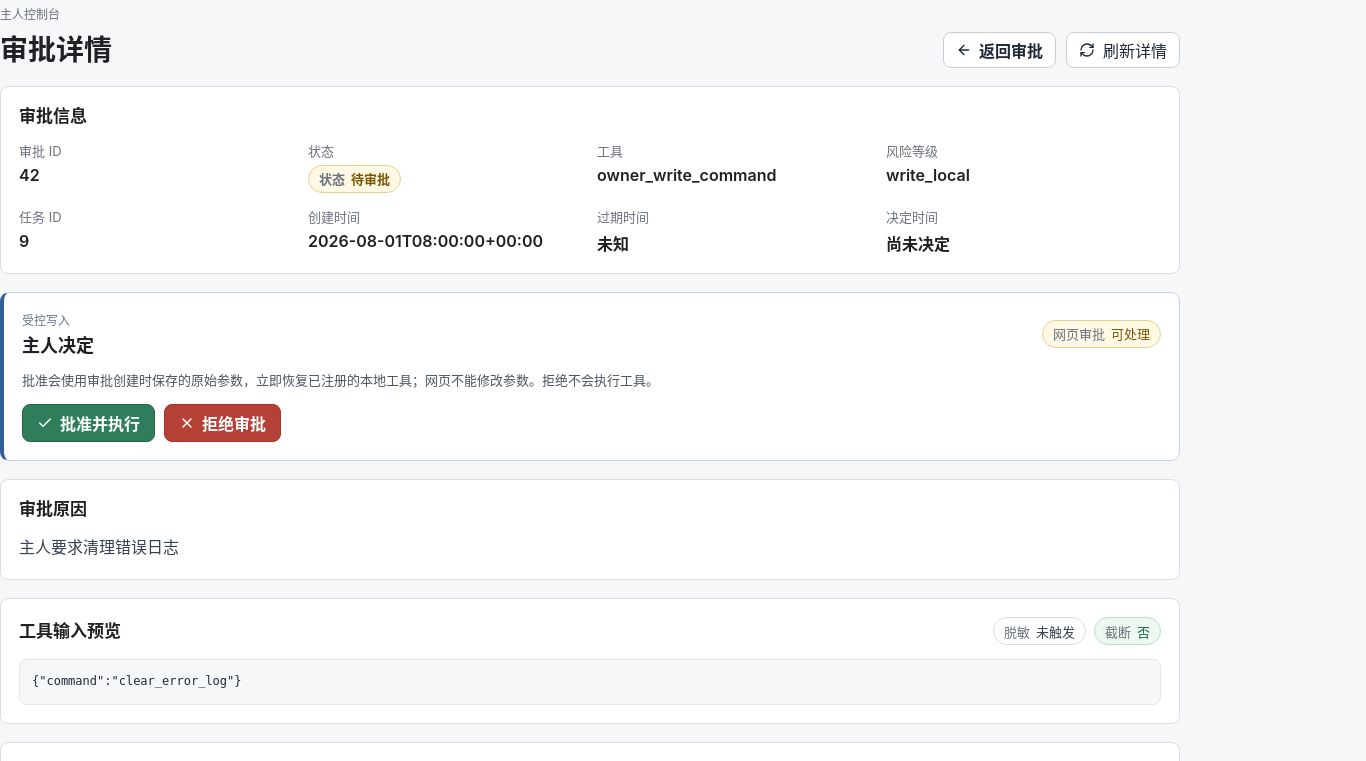
Scenario: ApprovalDetailPage › requires a second confirmation before approving and refreshes task state
Click the button "批准并执行".
click(88, 423)  # box [22,404,155,442]
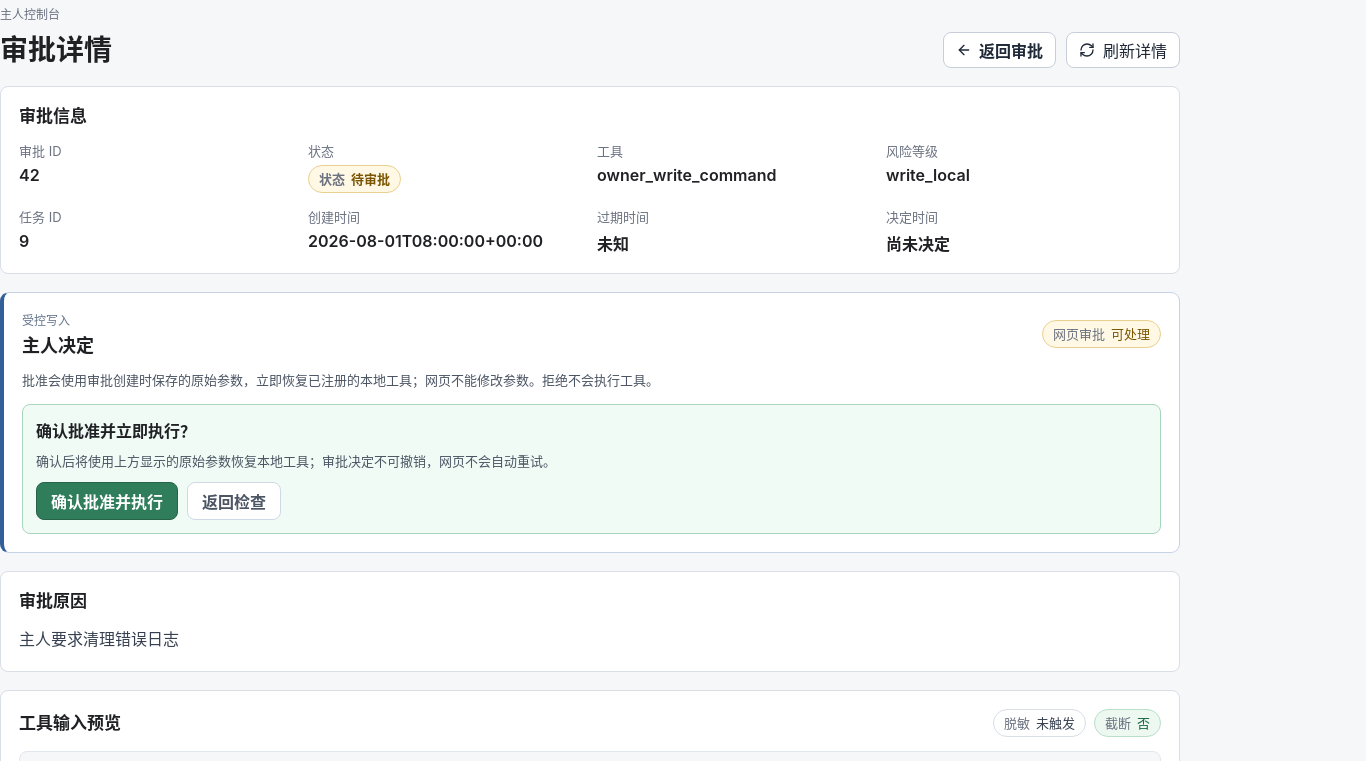
Check: the text "确认批准并立即执行？" is shown, box [36,421,196,441]
Click the button "确认批准并执行".
click(107, 501)  # box [36,482,178,520]
(page scrolled)
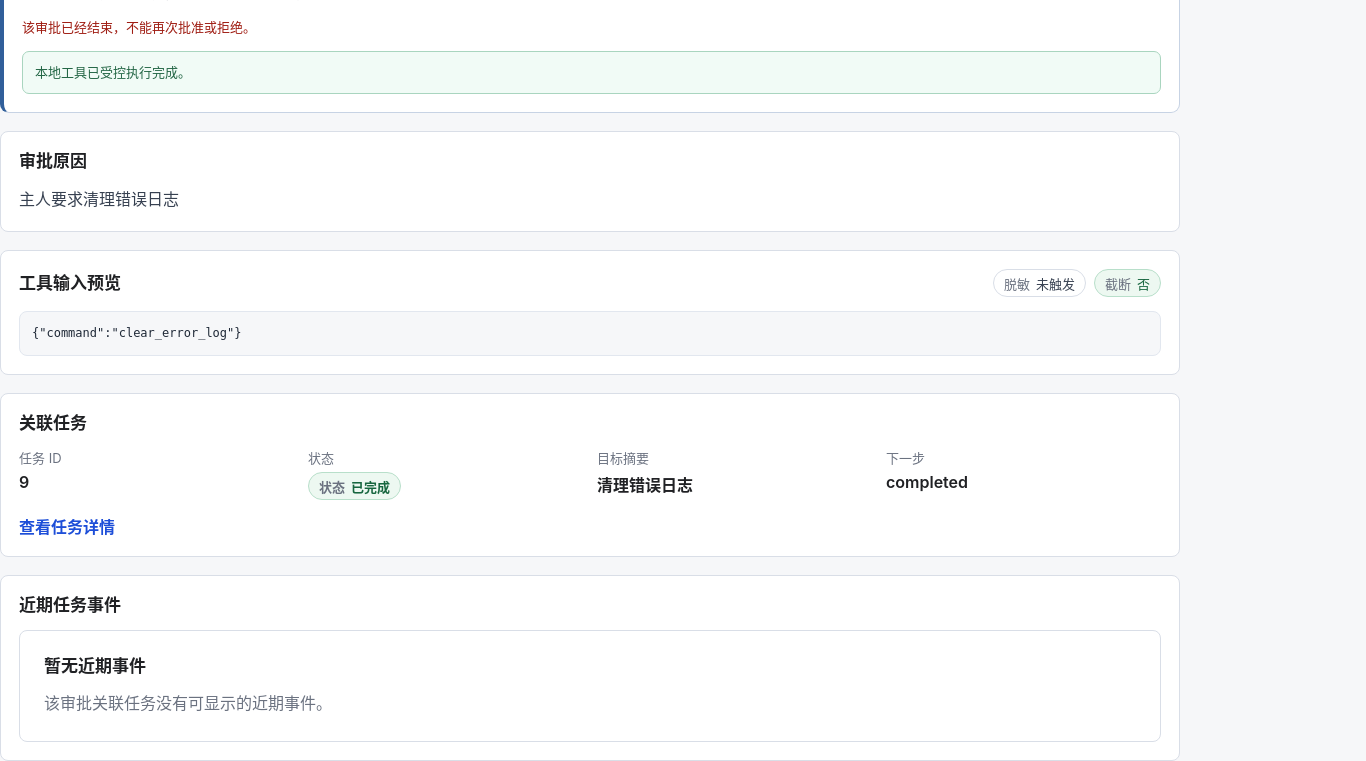
Check: the text "本地工具已受控执行完成。" is shown, box [22,51,1161,94]
Check: the text "已完成" is shown, box [351,477,390,496]
